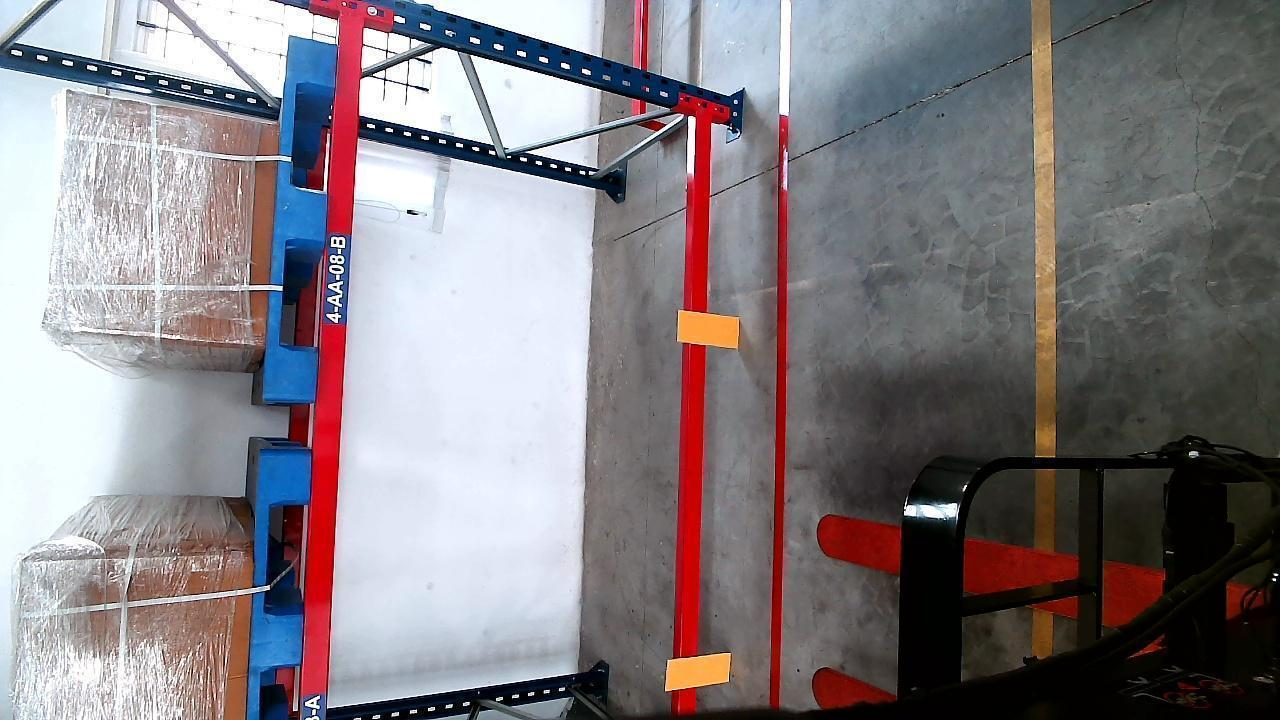red_line: (765, 17, 795, 709)
yellow_line: (1033, 2, 1060, 469)
